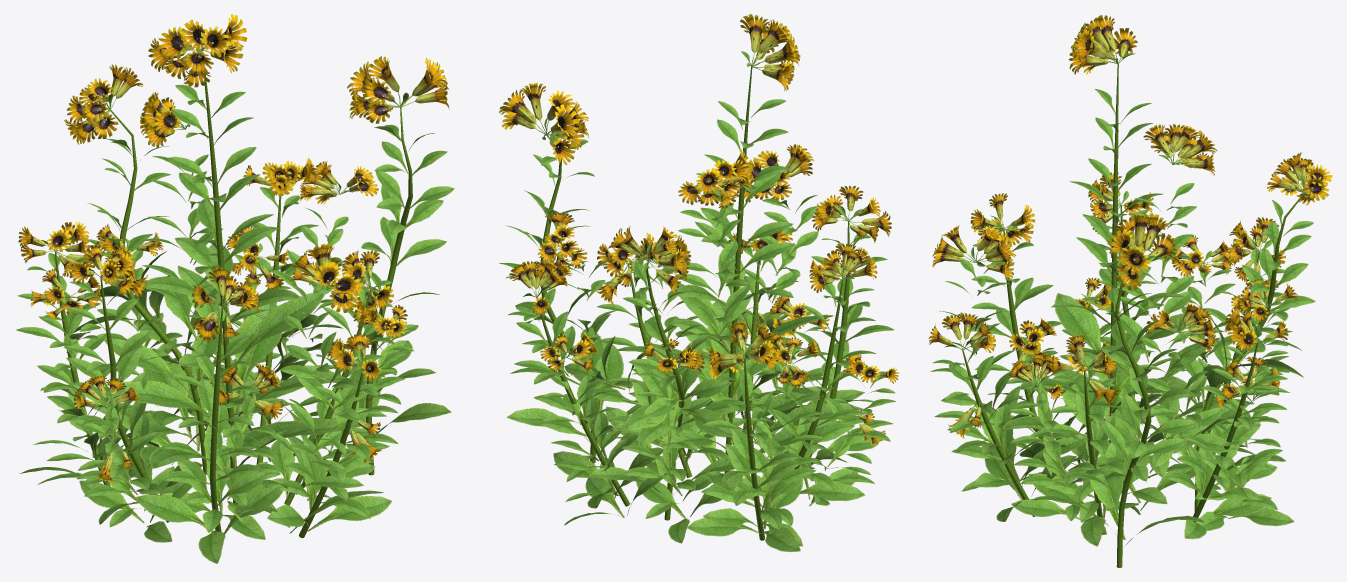
File: blackeyedsusan.glb
3 views of the same model, side by side, from view 1: azimuth 30°, elevation 25°; view 2: azimuth 150°, elevation 25°; view 3: azimuth 270°, elevation 25° (orthographic). The views are drawn at different scales.
Parts seen in each view (by area): view 1: Leaf_2_spring_3.001, Leaf_2_spring_3.002, Flower_Blue_spring_1.001, Flower_Blue_spring_1.002, Bark_spring_0.001; view 2: Leaf_2_spring_3.001, Leaf_2_spring_3.002, Flower_Blue_spring_1.001, Flower_Blue_spring_1.002, Bark_spring_0.001; view 3: Leaf_2_spring_3.001, Leaf_2_spring_3.002, Flower_Blue_spring_1.001, Flower_Blue_spring_1.002, Bark_spring_0.001.
Part boxes in pixels (x1,y1,x2,y2): Leaf_2_spring_3.001: [16, 42, 454, 563]; Leaf_2_spring_3.002: [37, 116, 413, 542]; Flower_Blue_spring_1.001: [18, 14, 449, 464]; Flower_Blue_spring_1.002: [30, 92, 407, 483]; Bark_spring_0.001: [55, 62, 412, 537]; Leaf_2_spring_3.001: [499, 51, 894, 551]; Leaf_2_spring_3.002: [541, 171, 896, 546]; Flower_Blue_spring_1.001: [499, 14, 891, 379]; Flower_Blue_spring_1.002: [533, 143, 899, 445]; Bark_spring_0.001: [536, 67, 849, 540]; Leaf_2_spring_3.001: [933, 53, 1318, 546]; Leaf_2_spring_3.002: [930, 155, 1294, 534]; Flower_Blue_spring_1.001: [929, 15, 1332, 438]; Flower_Blue_spring_1.002: [932, 124, 1297, 409]; Bark_spring_0.001: [962, 63, 1304, 567].
Bounding box in the file's own units: 2.75 × 3.34 × 2.62.
3 materials, 3 textured.
